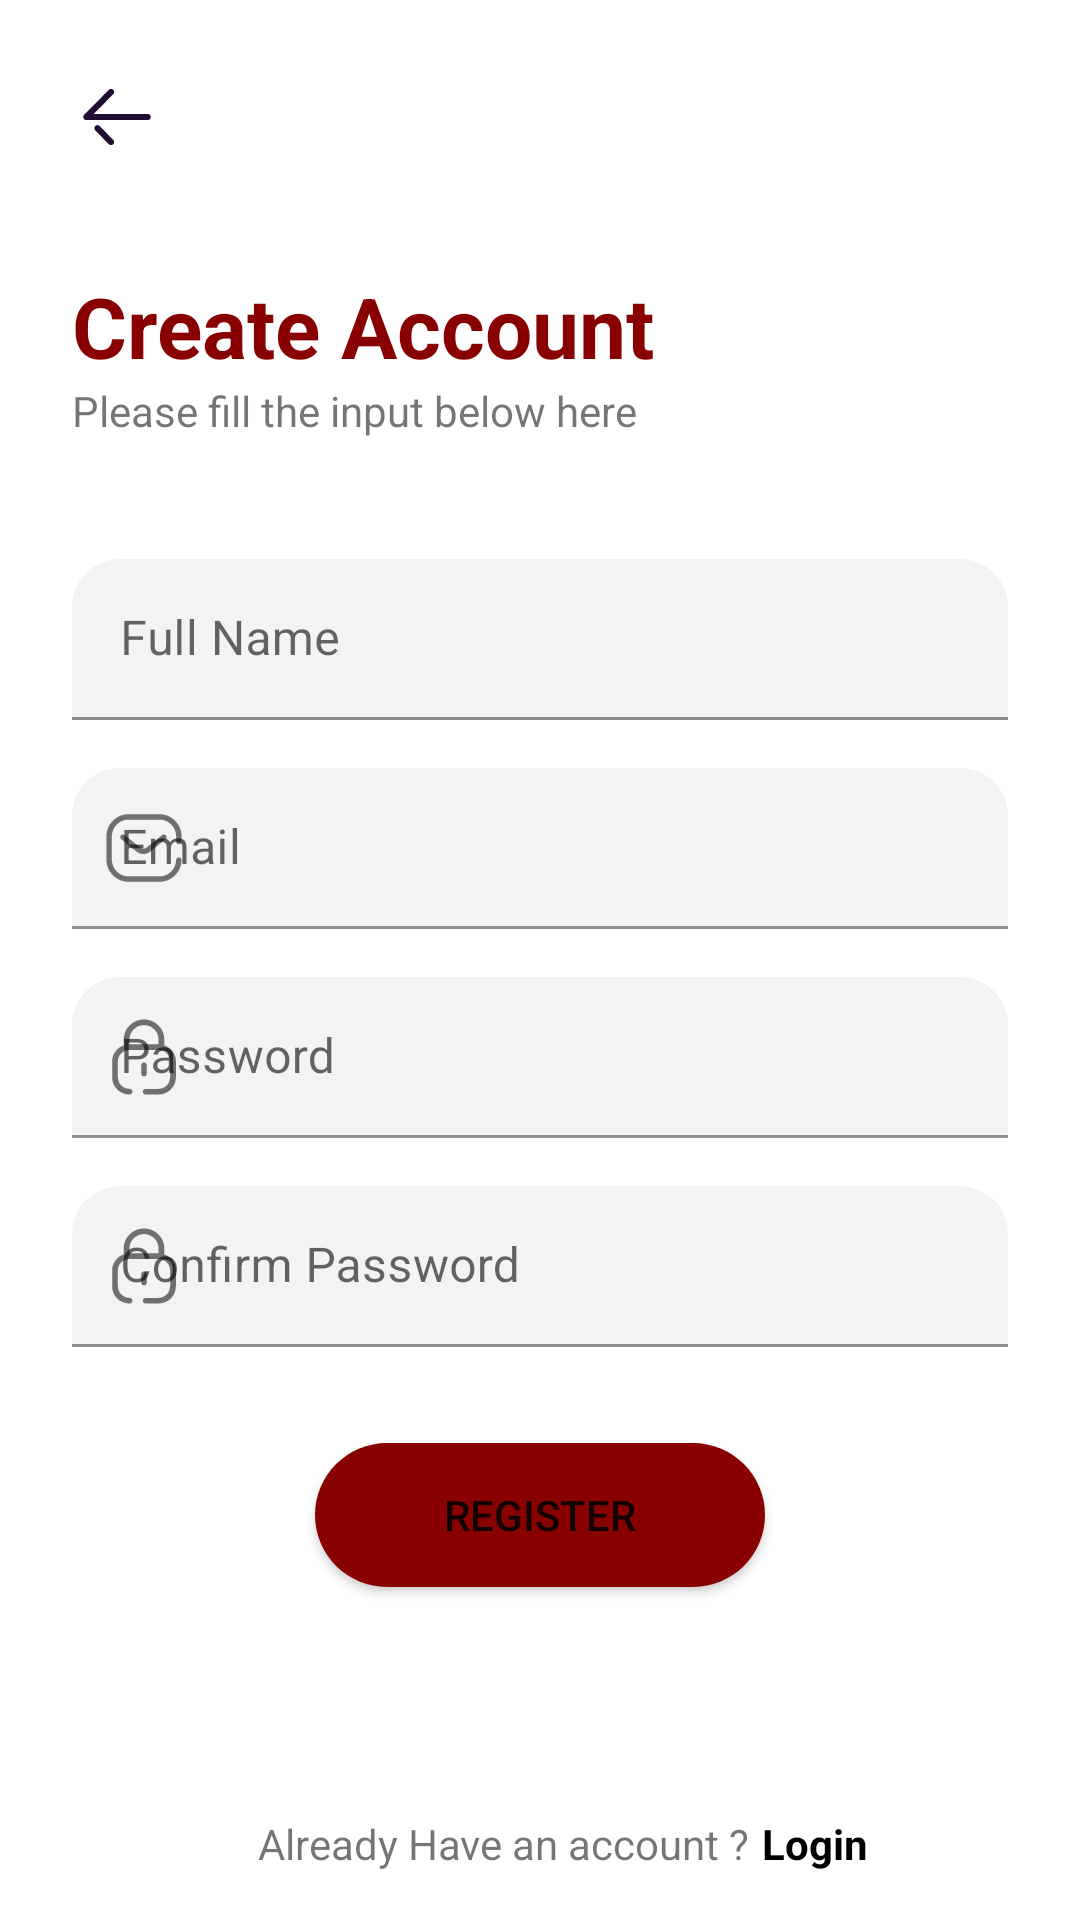

Where to tap for icons on this 1080×1920 app screen, as (x,y):
arrow left: (117,117)
